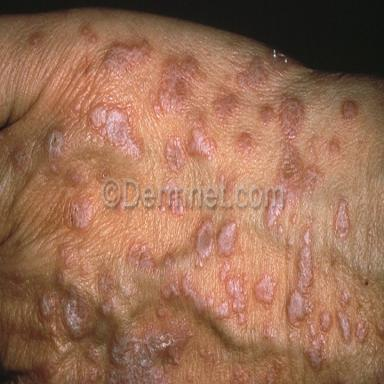lichen: (259, 98, 322, 201), (108, 325, 192, 383), (89, 105, 140, 156), (157, 57, 202, 114), (287, 227, 313, 325), (220, 260, 246, 322), (103, 42, 149, 76), (61, 291, 91, 337), (161, 273, 198, 306), (236, 57, 269, 89), (213, 88, 239, 126), (187, 123, 216, 157), (65, 197, 94, 230), (307, 324, 326, 370), (197, 219, 215, 266), (127, 243, 155, 271), (165, 136, 187, 170), (267, 48, 298, 72), (98, 273, 115, 316), (216, 222, 236, 257), (43, 130, 65, 158), (255, 275, 276, 303), (334, 200, 349, 238), (337, 310, 351, 342), (341, 100, 359, 122), (39, 293, 55, 317), (12, 149, 29, 171), (236, 133, 253, 154), (355, 321, 367, 343), (328, 138, 341, 157), (340, 287, 352, 307), (215, 301, 229, 318), (320, 310, 331, 331), (69, 171, 83, 186)
